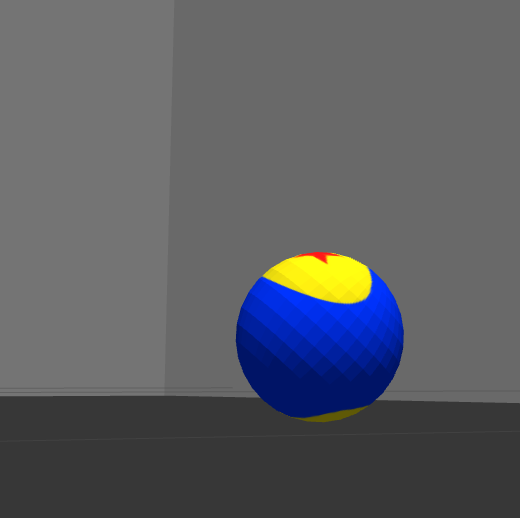toy story ball: (237, 251, 403, 424)
